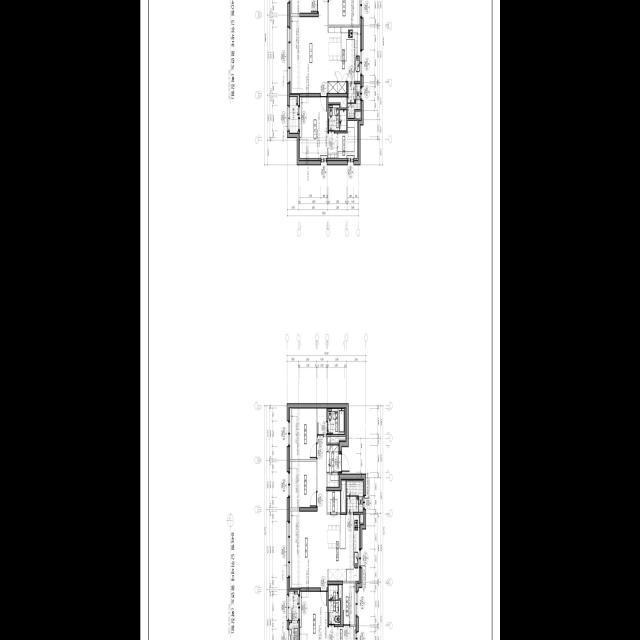background: (140, 0, 500, 640)
space_balconi: (346, 481, 363, 512), (347, 84, 360, 118), (289, 97, 298, 133), (289, 592, 298, 620)
space_bedroom: (300, 97, 337, 158), (290, 408, 316, 459), (290, 462, 316, 507), (290, 0, 317, 13)
space_dressroom: (338, 121, 357, 158), (338, 627, 355, 640)
space_front: (327, 445, 341, 487)
space_kitchen: (327, 515, 359, 581), (328, 27, 360, 93)
space_living_room: (290, 436, 327, 588), (290, 0, 327, 93)
space_other: (300, 592, 337, 640), (328, 0, 360, 25), (342, 583, 355, 625), (327, 491, 340, 512), (317, 408, 327, 434), (328, 97, 346, 108), (341, 481, 345, 512), (327, 437, 345, 443), (339, 585, 341, 625), (355, 112, 360, 119), (360, 515, 363, 523)
space_outdoor_room: (289, 623, 298, 640)
space_toilet: (328, 585, 340, 624), (328, 105, 346, 131), (327, 409, 344, 434)
